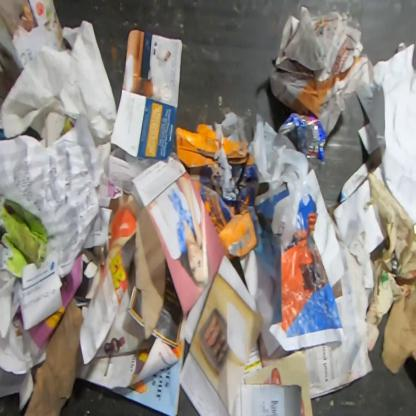cardboard: (175, 122, 263, 260), (21, 296, 85, 415), (0, 0, 68, 71), (243, 348, 314, 415), (380, 273, 415, 376), (44, 111, 74, 148)
metal: (277, 112, 328, 166)
soft_plastic: (247, 112, 310, 250)
